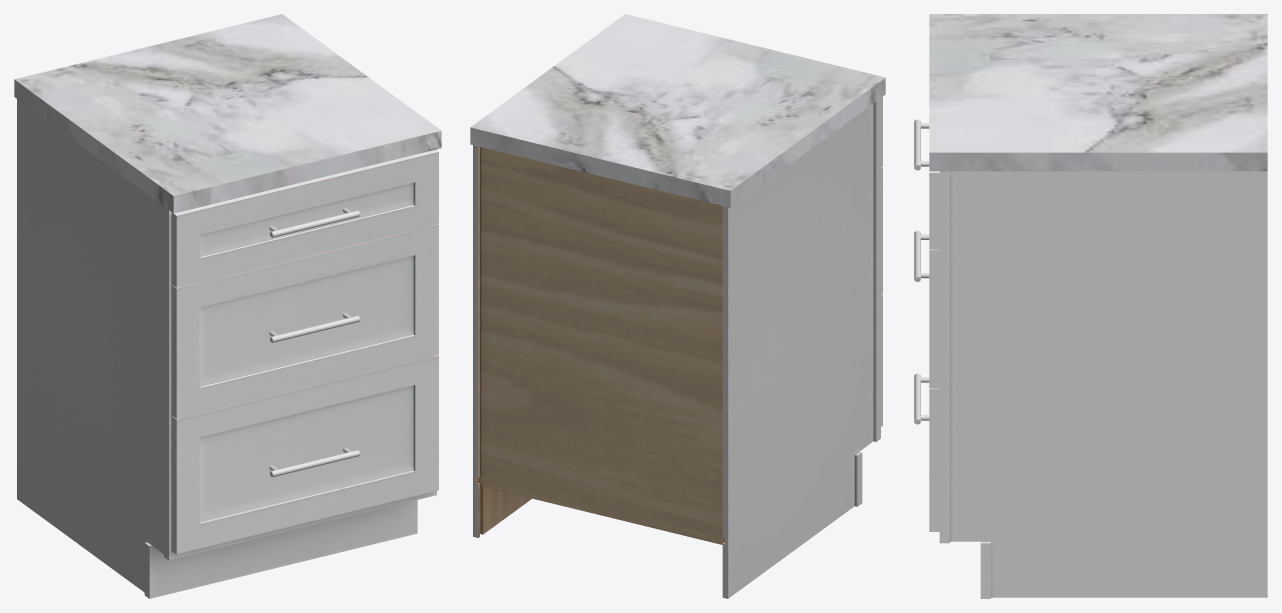
The model's file is White_3DB24.glb.
The picture shows the model from 3 angles, left to right: view 1: azimuth 30°, elevation 25°; view 2: azimuth 150°, elevation 25°; view 3: azimuth 270°, elevation 25°; orthographic projection. The views are drawn at different scales.
Parts seen in each view (by area): view 1: Door, Cube.013, countertop, Handle, Handle.001, Handle.002; view 2: Cube.013, countertop, Door; view 3: Cube.013, countertop, Door.
Part boxes in pixels (x1,y1,x2,y2): Door: (171,149,438,554); Cube.013: (17,99,436,598); countertop: (14,14,441,213); Handle: (269,207,359,237); Handle.001: (269,313,359,342); Handle.002: (269,447,359,477); Cube.013: (473,98,880,598); countertop: (470,14,885,207); Door: (881,97,882,426); Cube.013: (939,171,1267,598); countertop: (929,14,1267,171); Door: (929,171,939,531).
Size of the model in its own units: 0.6096 by 0.9144 by 0.6567.
4 materials, 3 textured.
